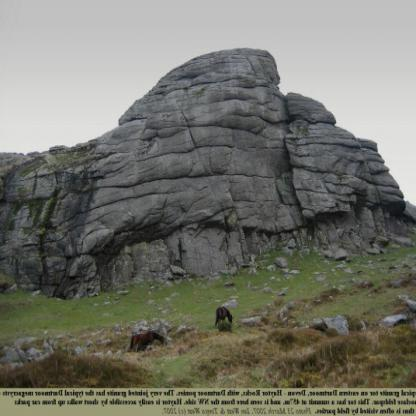Igneous_Granite: (81, 41, 285, 258), (298, 98, 376, 231), (1, 158, 59, 284)
